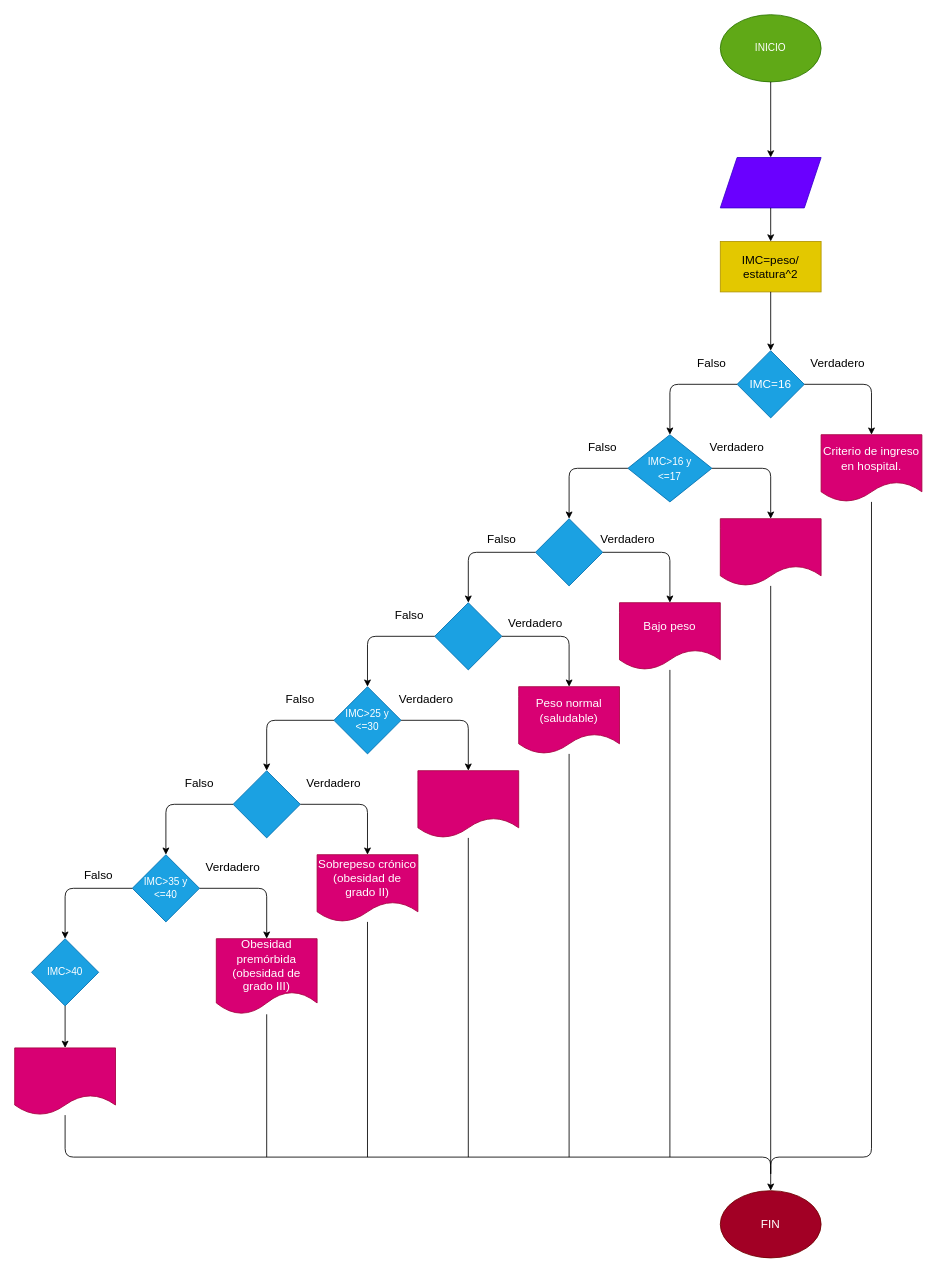
Image size: 937x1273. Some labels were removed from this diagram. Here are the shapes that lost their labels. From the top down, the box of each, then its label:
(719, 157, 821, 208): peso, estatura
(535, 518, 603, 586): IMC>17 y <=18
(719, 518, 821, 586): Infrapeso
(434, 602, 502, 670): IMC>18 y <=25
(232, 770, 300, 838): IMC>30 y <=35
(417, 770, 519, 838): Sobrepeso (obesidad de grado I)
(14, 1047, 116, 1115): Obesidad mórbida (obesidad de grado IV)
